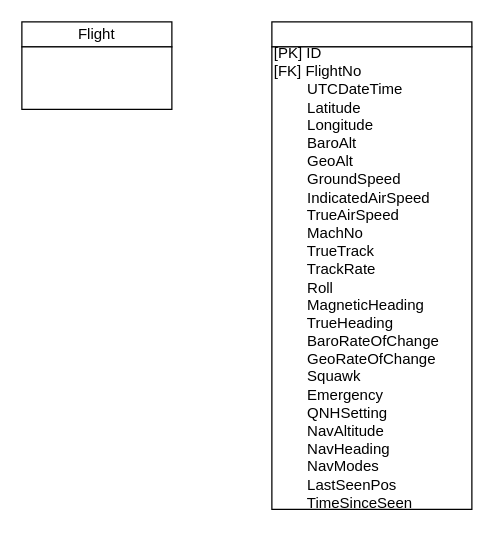
Some shapes in this 494 by 534 pixel diagram are drawn without their labels. The shapes that lost their labels are listed below. From the top down, each one's centre as x and y in pixels, then its label:
(x=371, y=34): FlightInfo
(x=96, y=77): [PK] ID FlightNo ICAO
